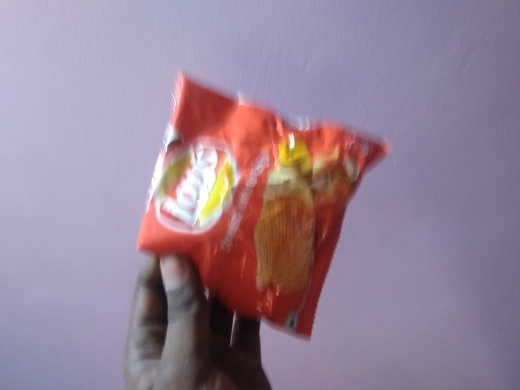lays: (143, 66, 397, 335)
